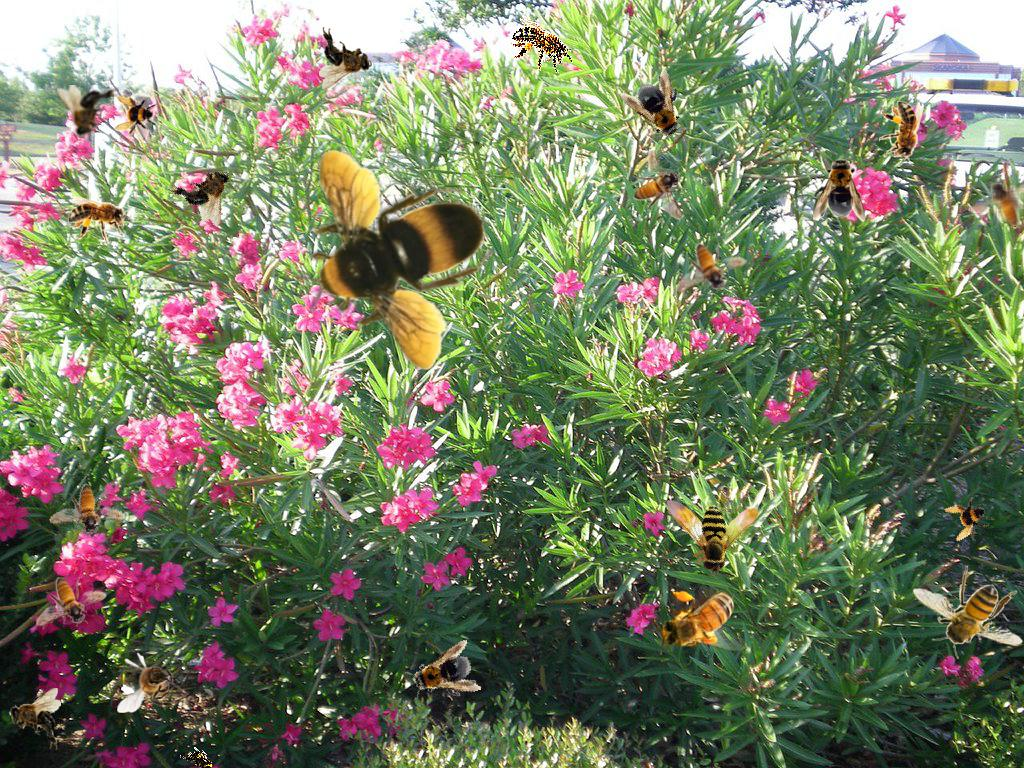Bee: (240, 106, 532, 393), (647, 461, 767, 581), (912, 565, 1023, 659), (619, 66, 701, 152), (165, 150, 248, 230), (654, 587, 747, 655), (48, 475, 132, 548), (402, 639, 484, 711), (503, 14, 583, 81), (117, 652, 187, 713), (940, 489, 1000, 549), (633, 149, 683, 220), (36, 577, 107, 627), (676, 243, 747, 293), (813, 154, 865, 222), (319, 27, 372, 89), (57, 85, 119, 138), (8, 688, 61, 750), (879, 101, 924, 167), (68, 196, 134, 241), (968, 178, 1024, 228), (114, 94, 158, 138), (179, 740, 223, 768)
